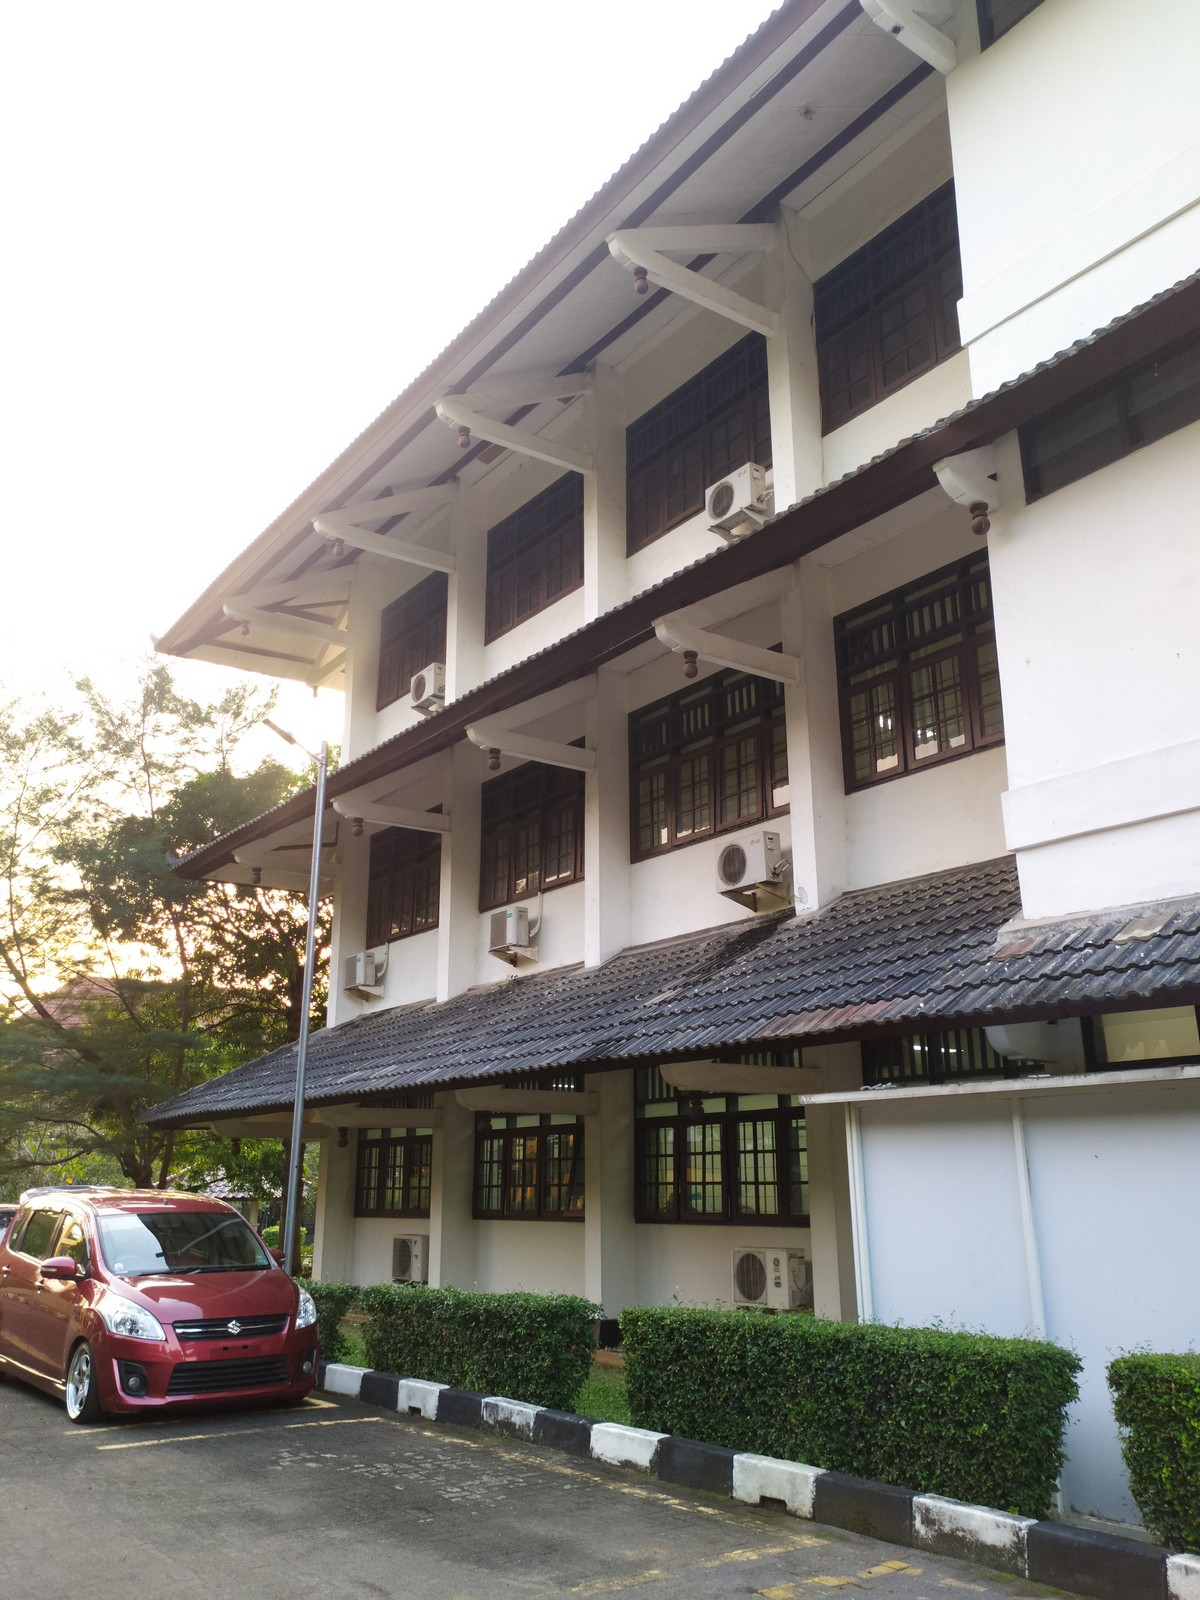concrete beam: (663, 263, 776, 333), (703, 631, 808, 689), (479, 425, 596, 475), (355, 527, 449, 574), (503, 727, 591, 775)
concrete column: (773, 582, 861, 910), (756, 239, 834, 498), (574, 698, 644, 968), (579, 1072, 644, 1332), (575, 367, 634, 609), (432, 762, 480, 1003), (424, 1096, 480, 1294), (437, 483, 492, 689), (308, 1112, 361, 1298), (326, 826, 372, 1024), (339, 569, 382, 758)
